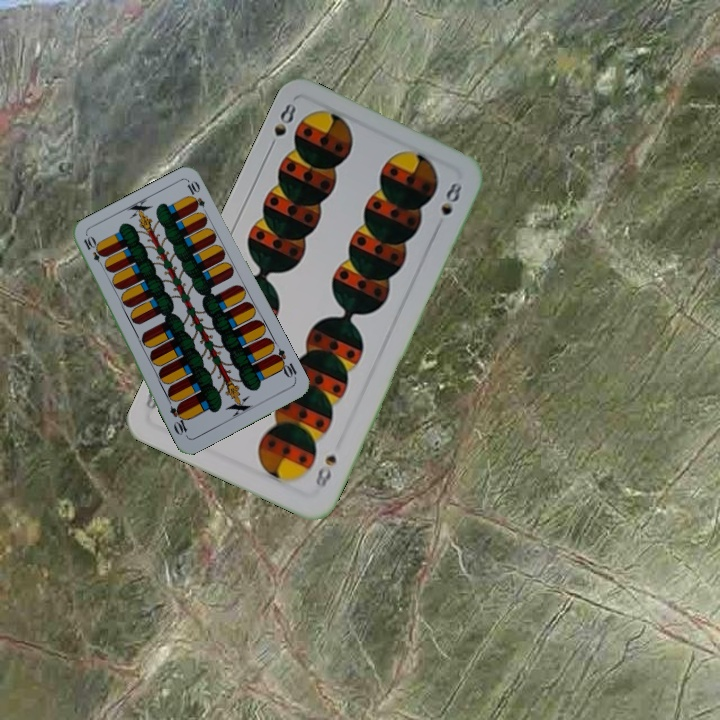E10: (79, 232, 108, 271), (269, 345, 299, 382)
S8: (264, 99, 299, 154), (311, 450, 339, 491)
